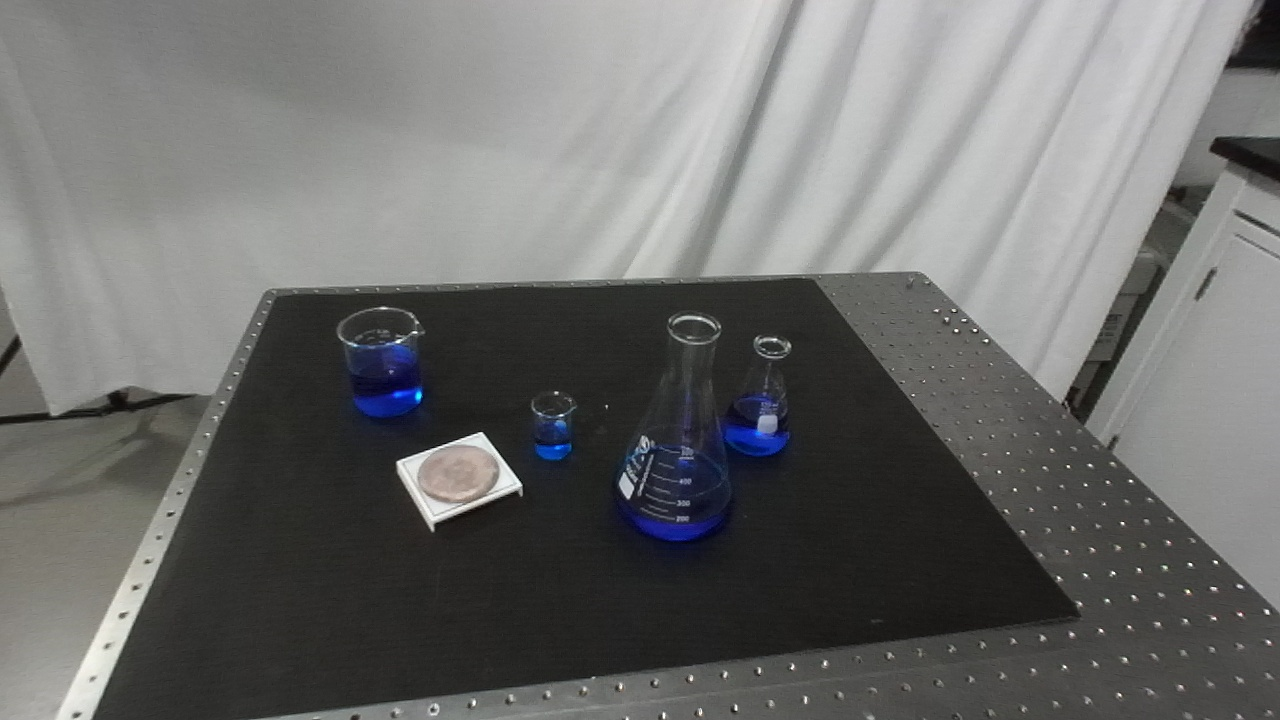glass: (612, 311, 734, 547), (335, 304, 425, 417), (723, 330, 791, 463), (531, 390, 578, 464)
